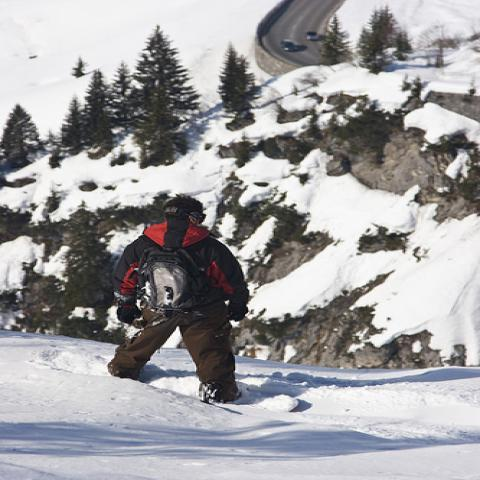car: (281, 39, 298, 51), (305, 30, 318, 40)
